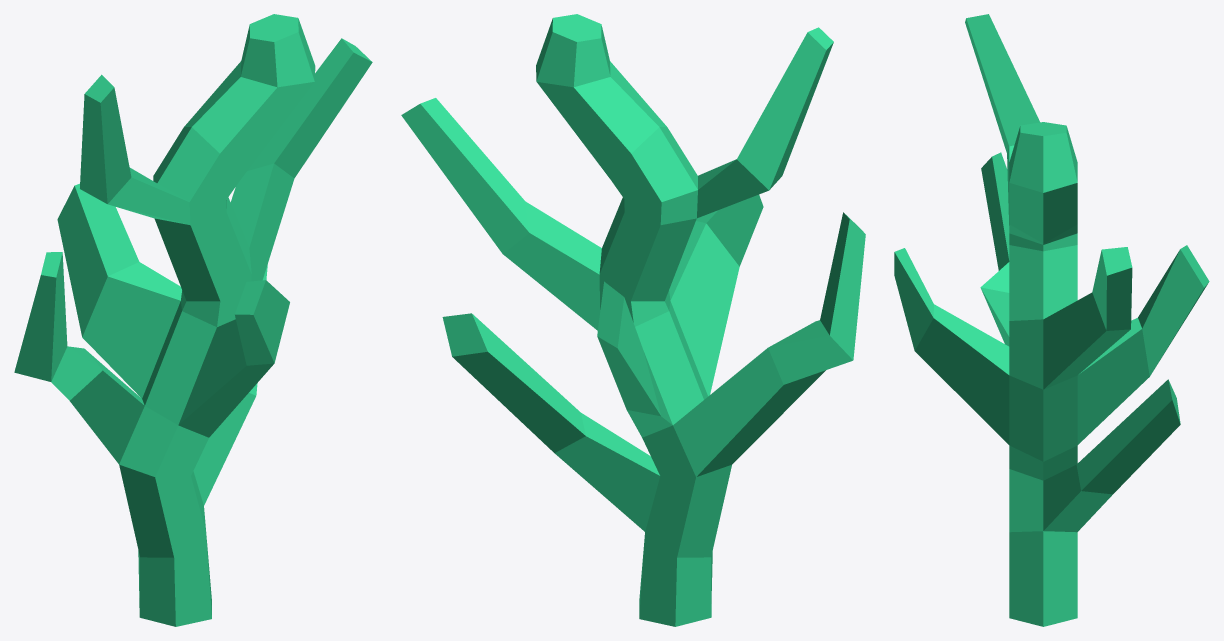
The model's file is CoralAqua.FBX.
3 renders of one model, left to right at view 1: azimuth 30°, elevation 25°; view 2: azimuth 150°, elevation 25°; view 3: azimuth 270°, elevation 25°, orthographic. The views are drawn at different scales.
Parts seen in each view (by area): view 1: CoralAqua; view 2: CoralAqua; view 3: CoralAqua.
Boxes of the visible parts, bbox=[...] form: CoralAqua: bbox=[14, 14, 372, 626]; CoralAqua: bbox=[401, 14, 865, 626]; CoralAqua: bbox=[894, 14, 1209, 626].
Size of the model in its own units: 27.64 by 38.42 by 19.99.
